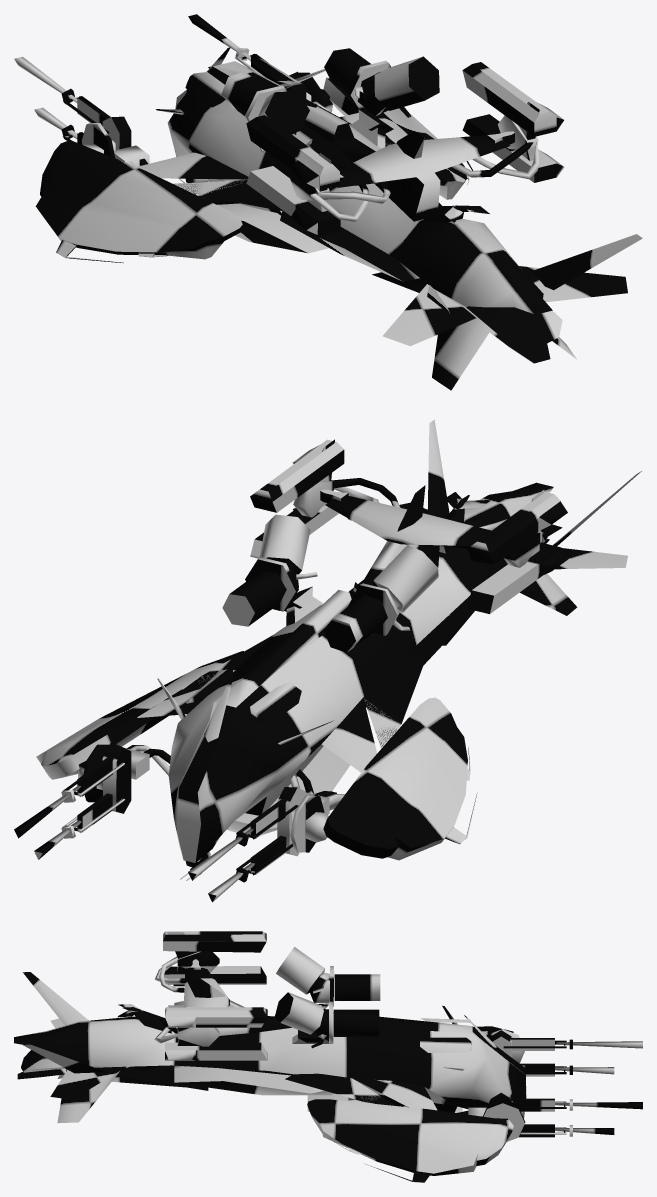
File: corsair.obj
3 renders of one model, top to bottom at view 1: azimuth 30°, elevation 25°; view 2: azimuth 150°, elevation 25°; view 3: azimuth 270°, elevation 25°, orthographic. The views are drawn at different scales.
Visible parts, largest first — view 1: corsair; view 2: corsair; view 3: corsair.
Boxes of the visible parts, <box> form: corsair: <box>14,14,642,390</box>; corsair: <box>14,419,641,902</box>; corsair: <box>14,931,642,1182</box>.
Bounding box in the file's own units: 4.03 × 2.24 × 7.6.
1 material, 1 textured.
